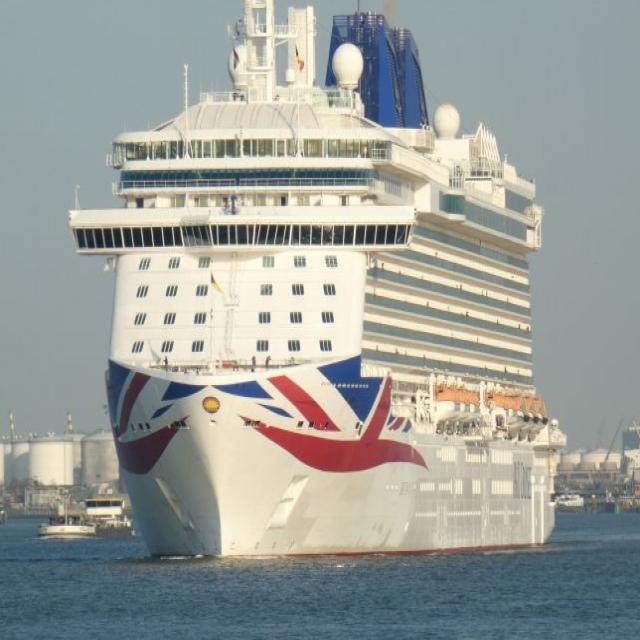cruises: (66, 1, 567, 573)
